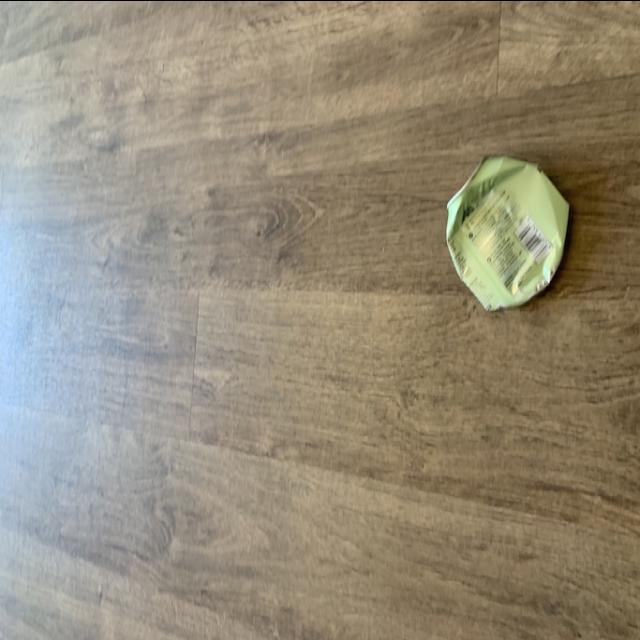litter: (423, 115, 584, 325)
